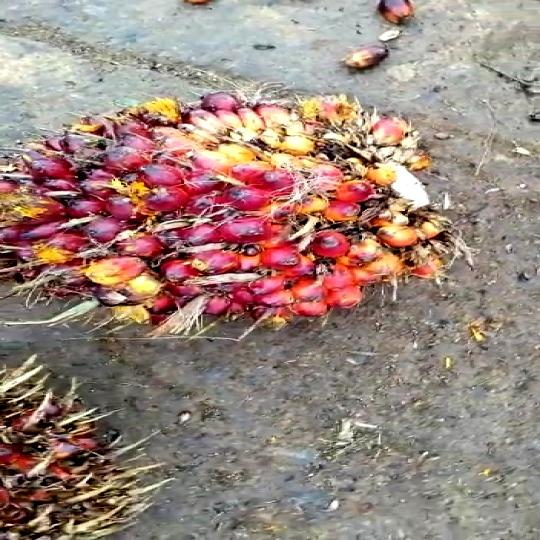masak: (0, 92, 459, 340)
